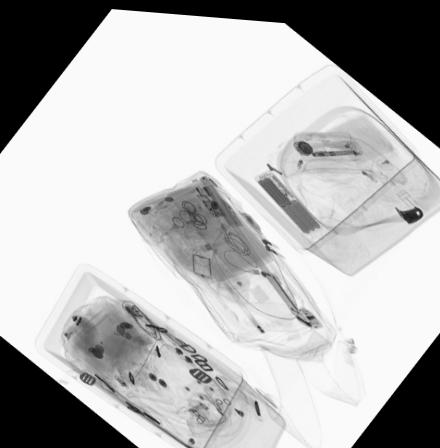Lighter: (62, 311, 90, 338)
